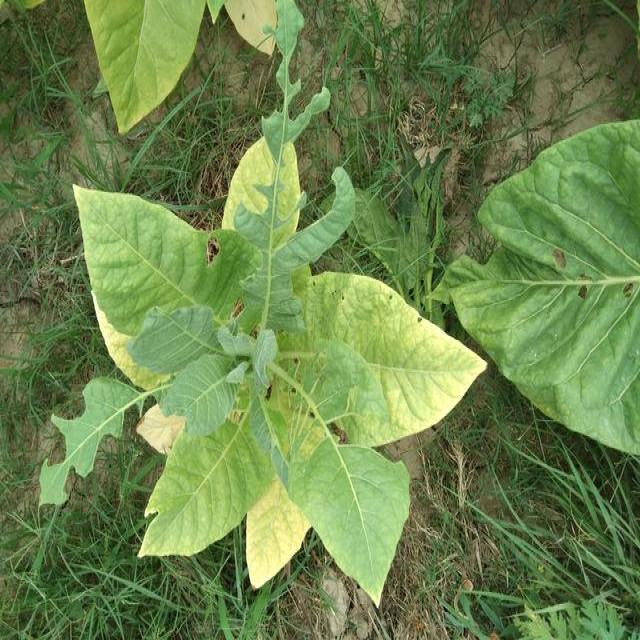crop: (72, 119, 486, 614)
